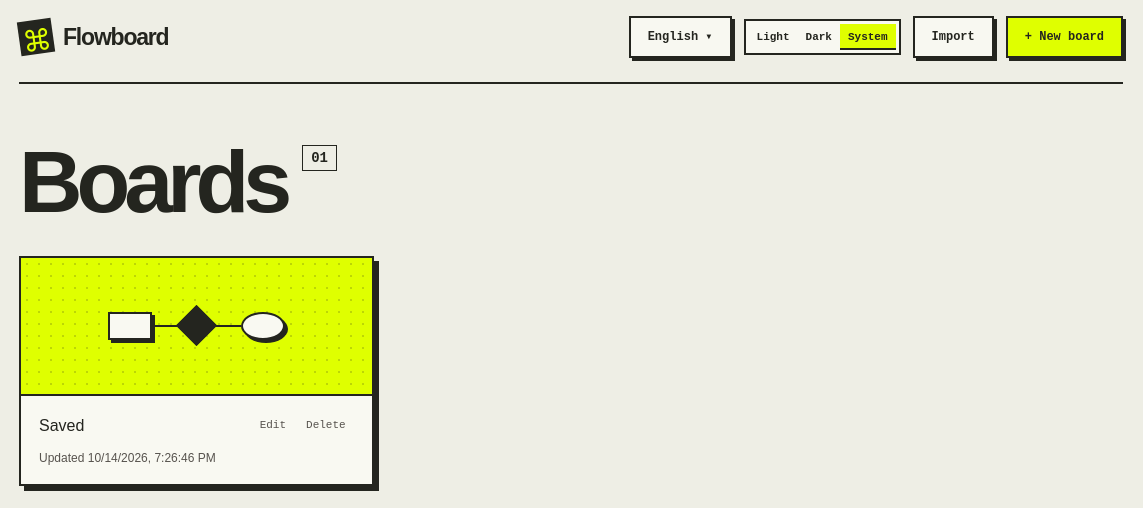
Test: keeps a board when deletion is cancelled and removes it when confirmed
What coordinates should you click on to do the following:
click the button with aria-label "Delete Saved"
I would click on:
 (326, 426)
Its box is [298, 414, 354, 437].
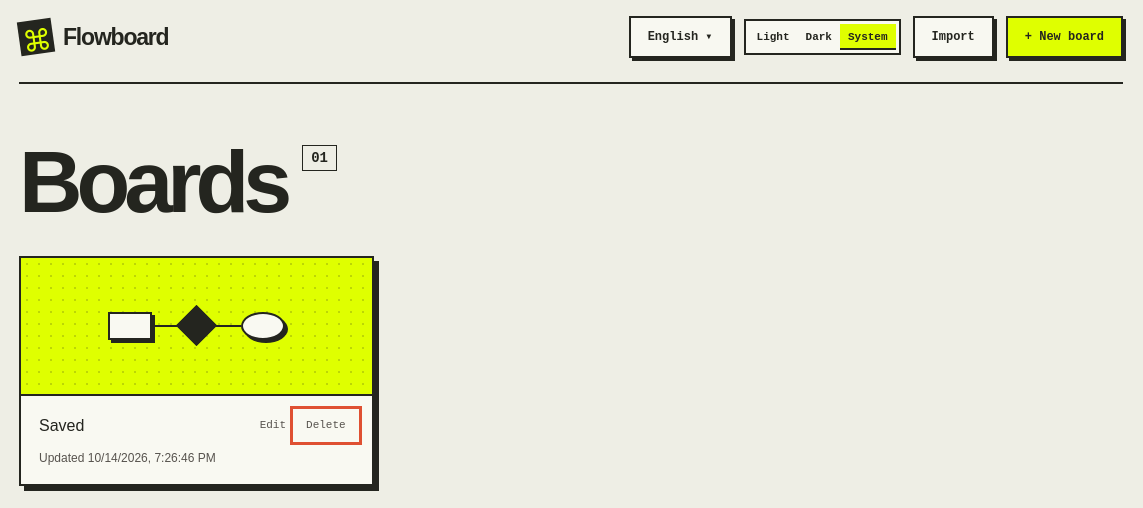
What coordinates should you click on to do the following:
click the button with aria-label "Delete Saved"
I would click on:
 (326, 426)
Its box is [298, 414, 354, 437].
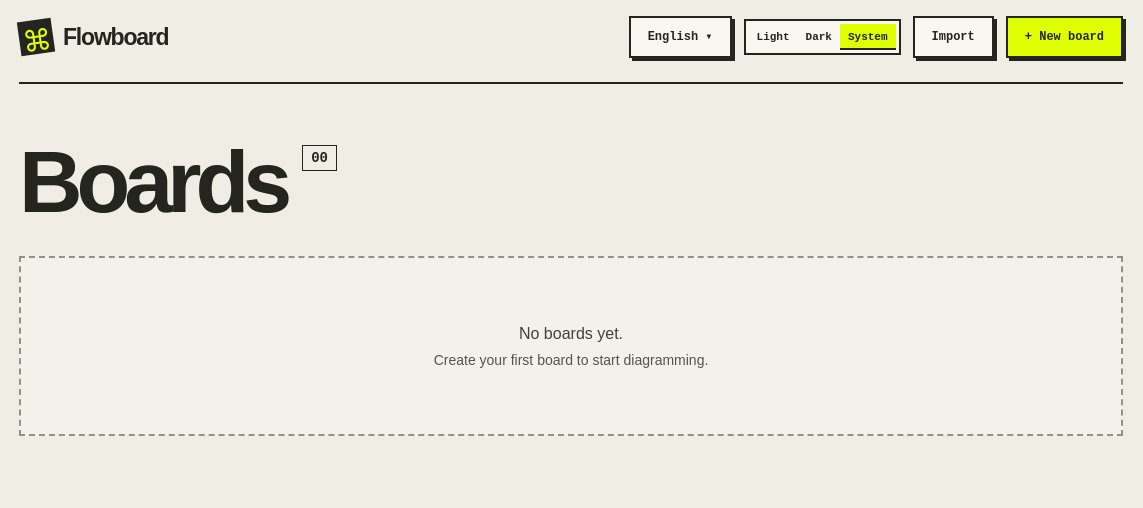
expect the text "No boards yet." is shown: met, box [519, 325, 623, 342]
